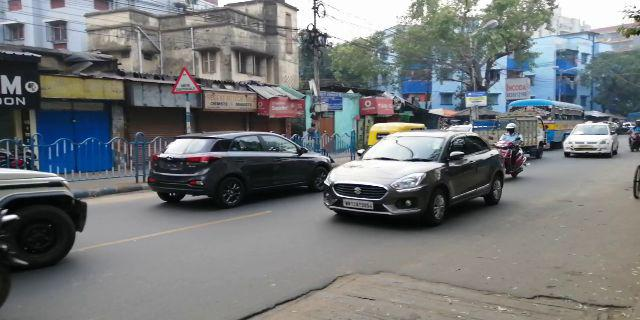Car: (327, 136, 497, 221), (154, 136, 310, 206), (563, 126, 620, 154)
Motorbike: (492, 121, 533, 181)
